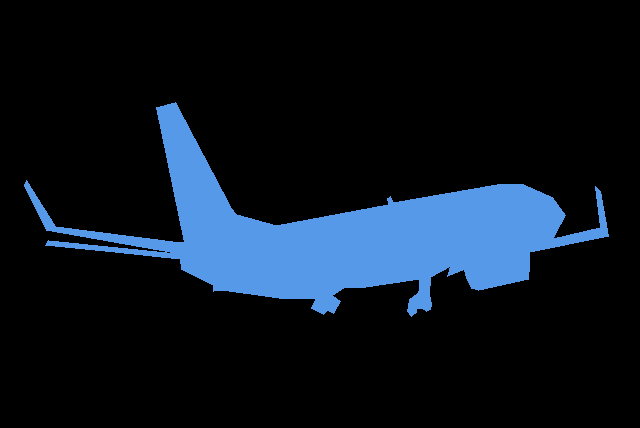Airplane: (24, 102, 609, 316)
